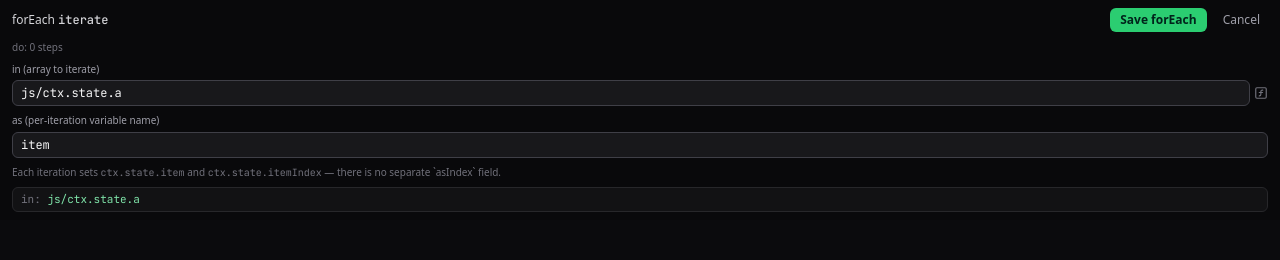
ForEachEditor — as/asIndex namespace collision footgun › warns when `as` matches an existing step id elsewhere in the workflow
The width and height of the screenshot is (1280, 260).
In the field labelled "as": (640, 145) [12,132,1268,158], type "order"
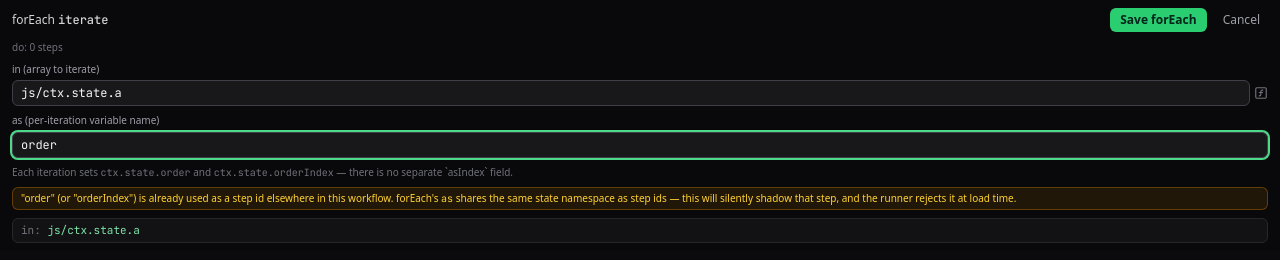
Expected: the text "is already used as a step id elsewhere" is shown, [103,191,438,205]
